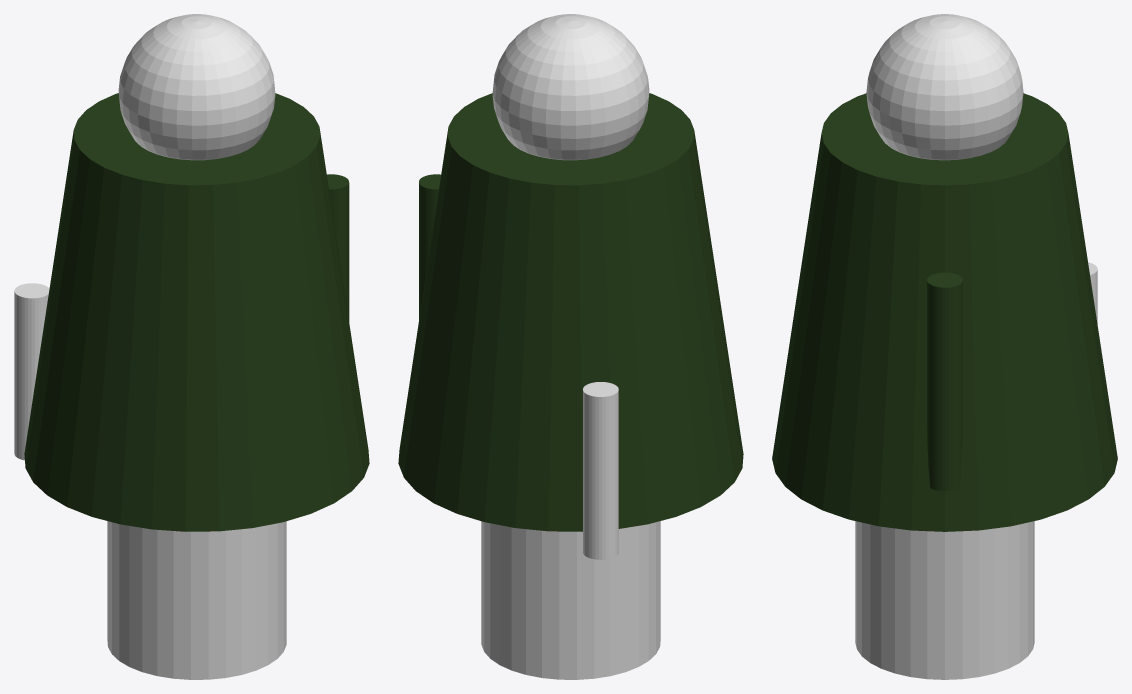
Rendered from player_figure.glb.
3 renders of one model, left to right at view 1: azimuth 30°, elevation 25°; view 2: azimuth 150°, elevation 25°; view 3: azimuth 270°, elevation 25°, orthographic.
Visible parts, largest first — view 1: Zylinder; view 2: Zylinder; view 3: Zylinder.
Boxes of the visible parts, <box> form: Zylinder: <box>14,14,369,679</box>; Zylinder: <box>398,14,743,679</box>; Zylinder: <box>772,14,1117,679</box>.
Bounding box in the file's own units: 1.54 × 3.05 × 1.54.
